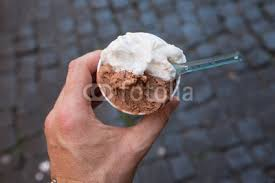ice-cream: (99, 67, 176, 115), (102, 35, 178, 79)
